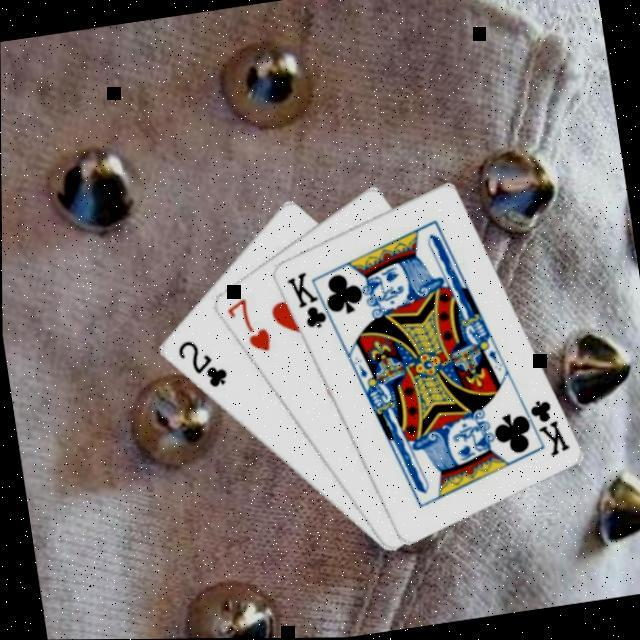2C: (172, 332, 231, 395)
7H: (221, 291, 275, 359)
KC: (516, 390, 573, 462), (283, 265, 339, 335)
